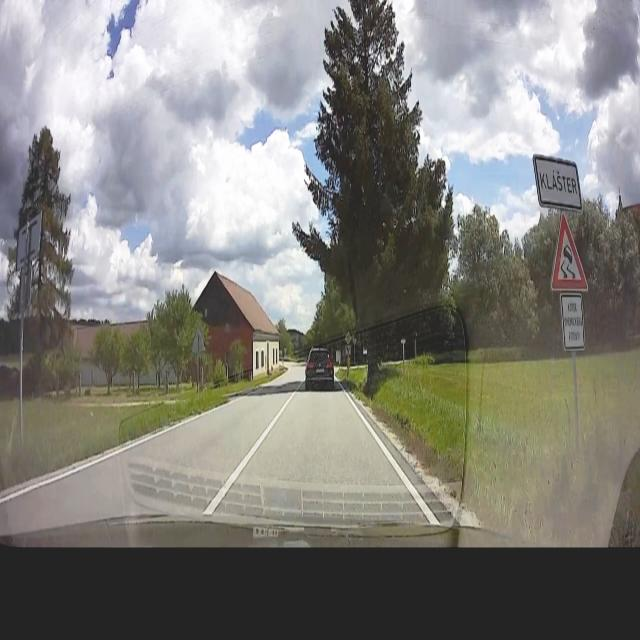Priority road: (344, 330, 353, 346)
